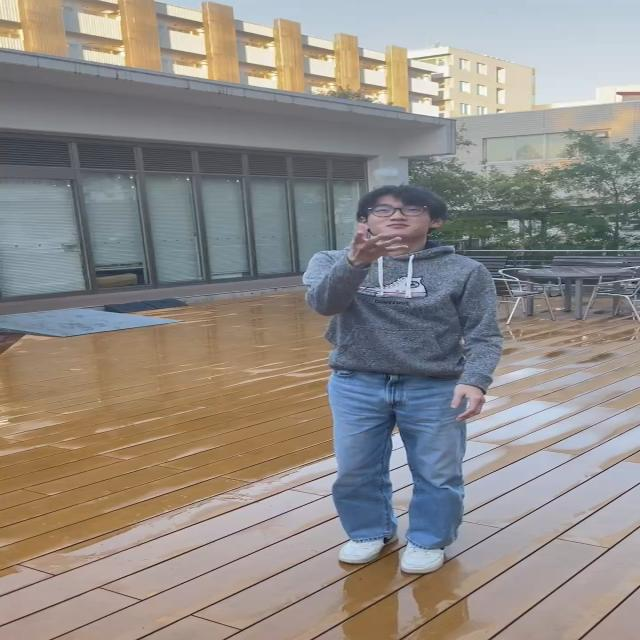paper: (379, 167, 407, 179)
